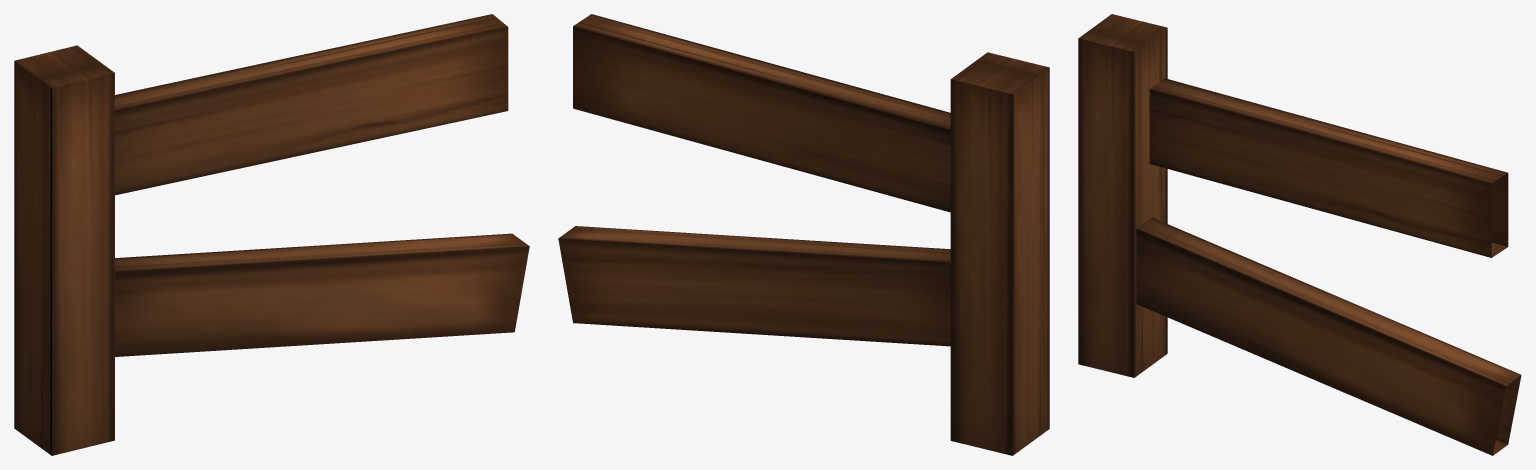
File: WoodenFence2.FBX
3 renders of one model, left to right at view 1: azimuth 30°, elevation 25°; view 2: azimuth 150°, elevation 25°; view 3: azimuth 330°, elevation 25°, orthographic. The views are drawn at different scales.
Parts seen in each view (by area): view 1: Wooden Fence 2; view 2: Wooden Fence 2; view 3: Wooden Fence 2.
Part boxes in pixels (x1,y1,x2,y2): Wooden Fence 2: (14,14,529,455); Wooden Fence 2: (558,14,1049,455); Wooden Fence 2: (1078,14,1521,455).
Size of the model in its own units: 104 by 76 by 14.1.
